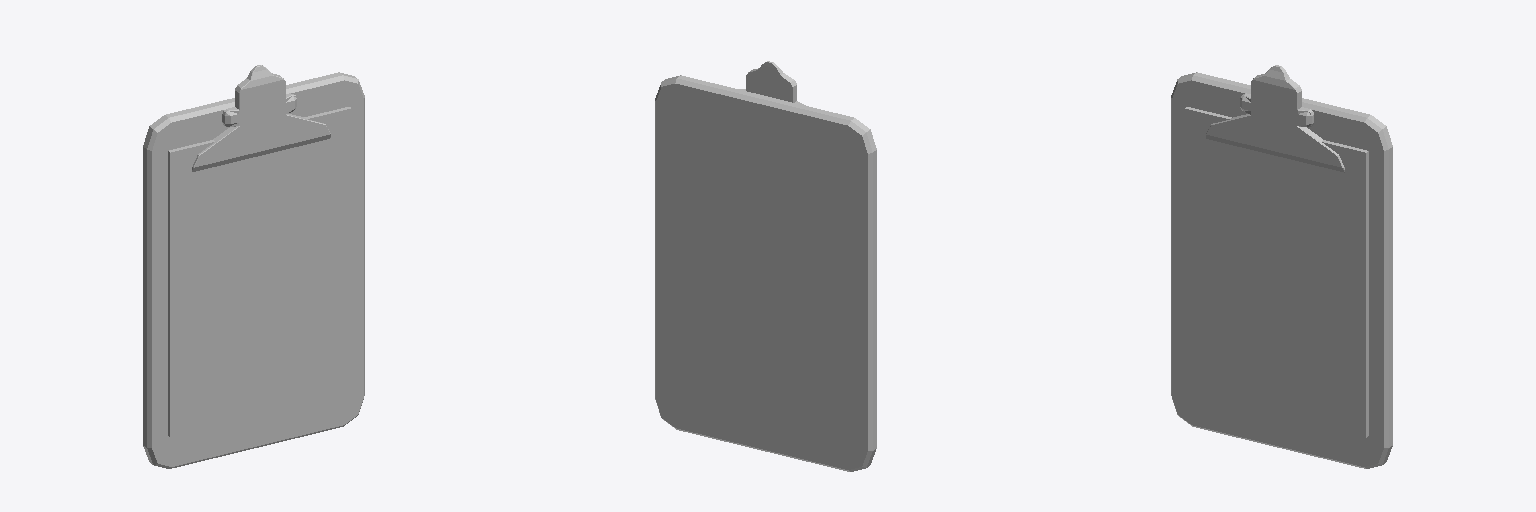
File: noteblock.obj
The picture shows the model from 3 angles: view 1: azimuth 30°, elevation 25°; view 2: azimuth 150°, elevation 25°; view 3: azimuth 330°, elevation 25°; orthographic projection.
Visible parts, largest first — view 1: Noteblock1; view 2: Noteblock1; view 3: Noteblock1.
Part boxes in pixels (x1,y1,x2,y2): Noteblock1: (143, 65, 364, 468); Noteblock1: (655, 61, 876, 471); Noteblock1: (1171, 65, 1392, 468).
Size of the model in its own units: 23.99 by 40.43 by 2.37.